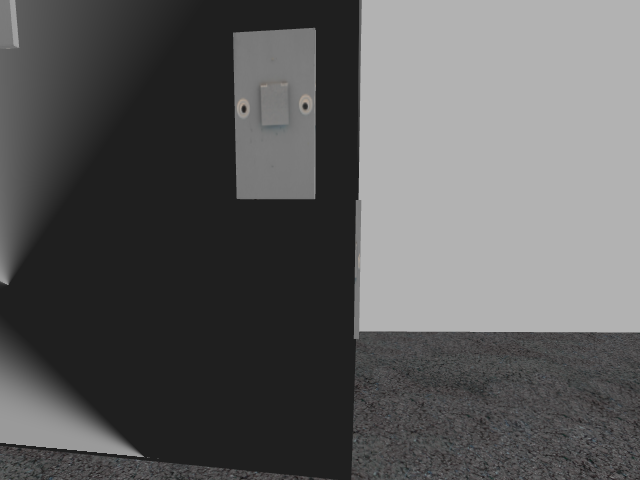facade: (236, 80, 312, 127)
